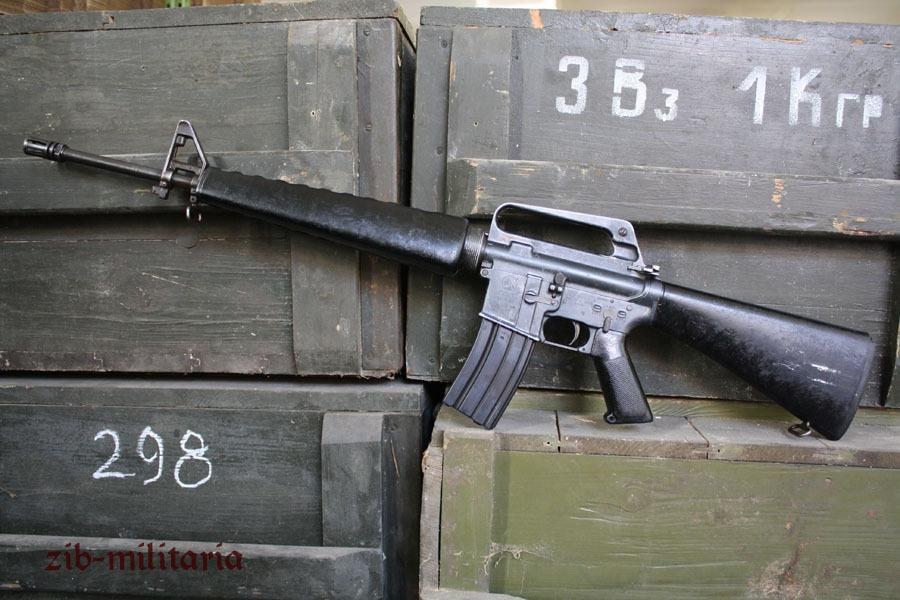rifle: (15, 116, 879, 441)
